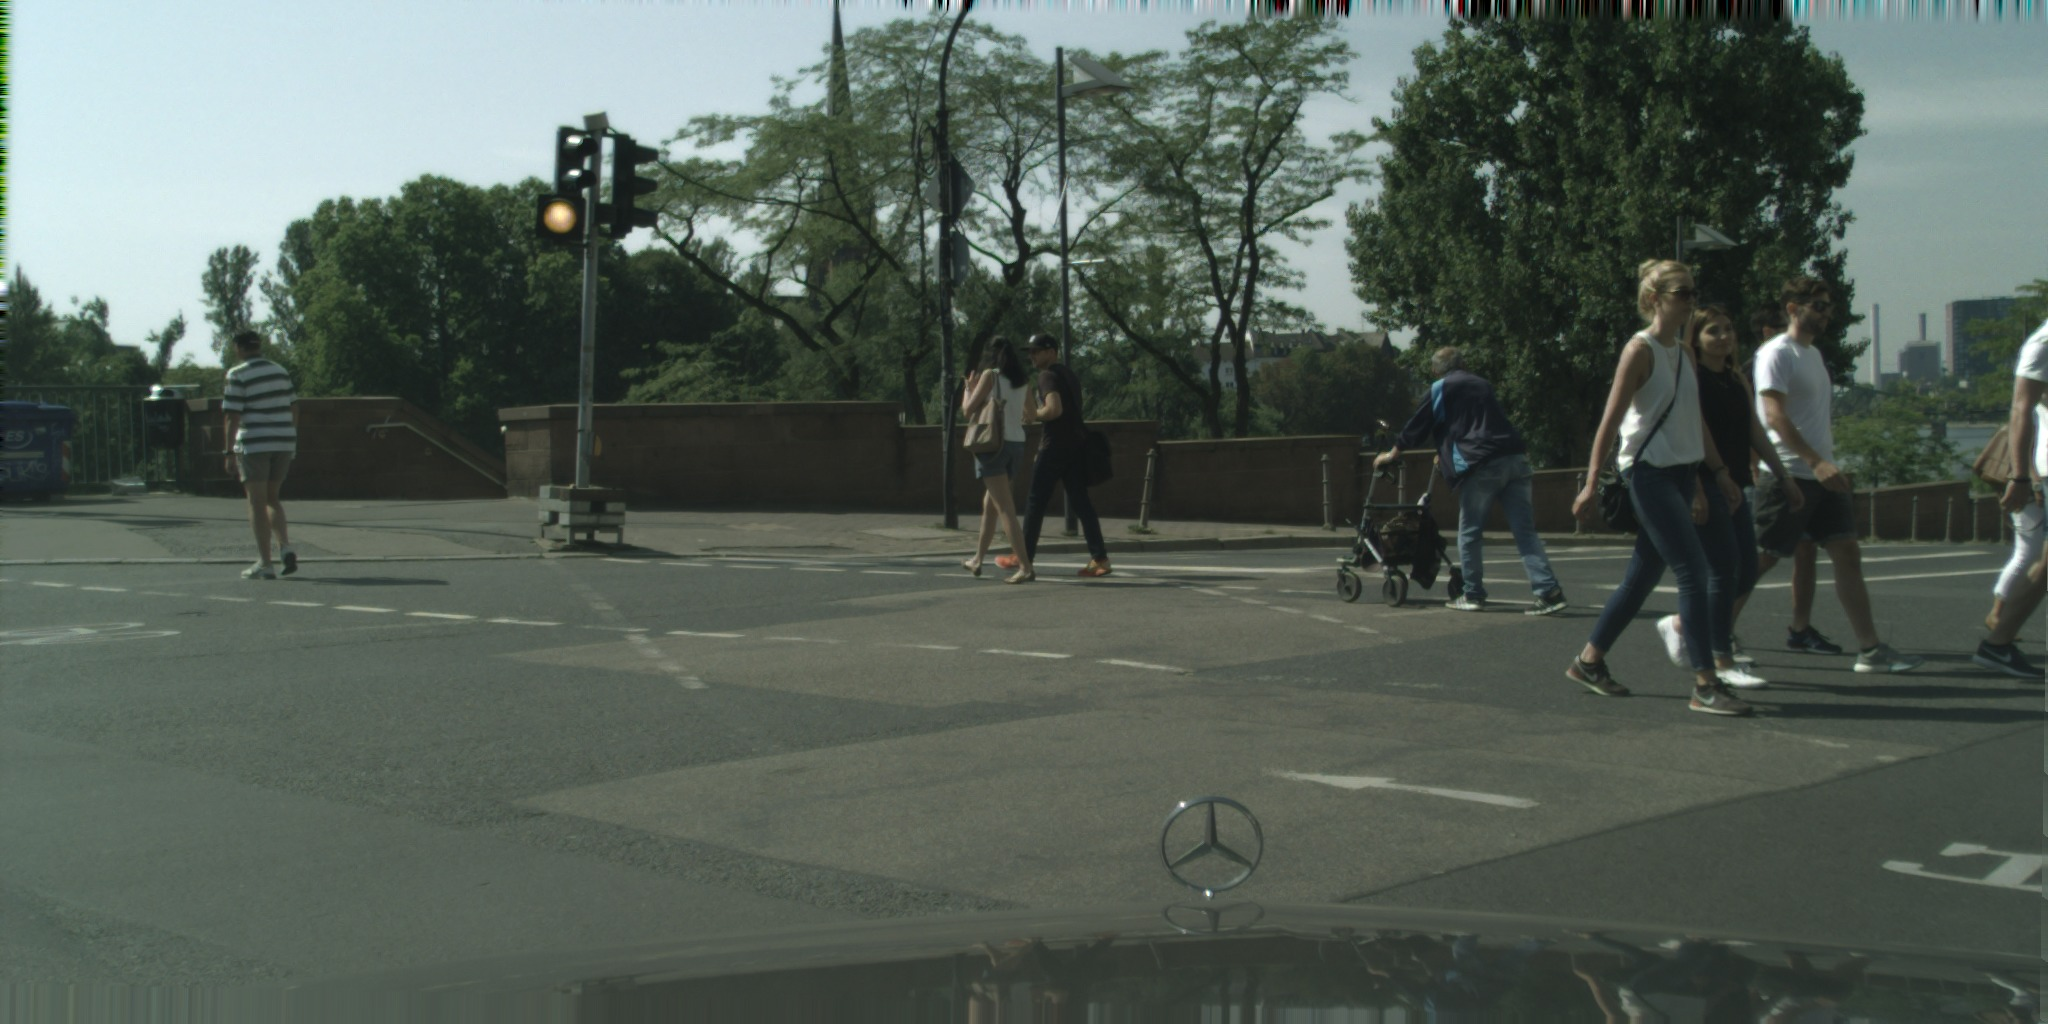person: (1565, 258, 1754, 716), (1724, 273, 1928, 674), (1655, 302, 1806, 690), (1372, 346, 1571, 616), (1735, 302, 1843, 655), (995, 331, 1115, 577), (1972, 314, 2048, 678), (1970, 357, 2048, 642), (221, 330, 300, 580), (960, 332, 1038, 583)
